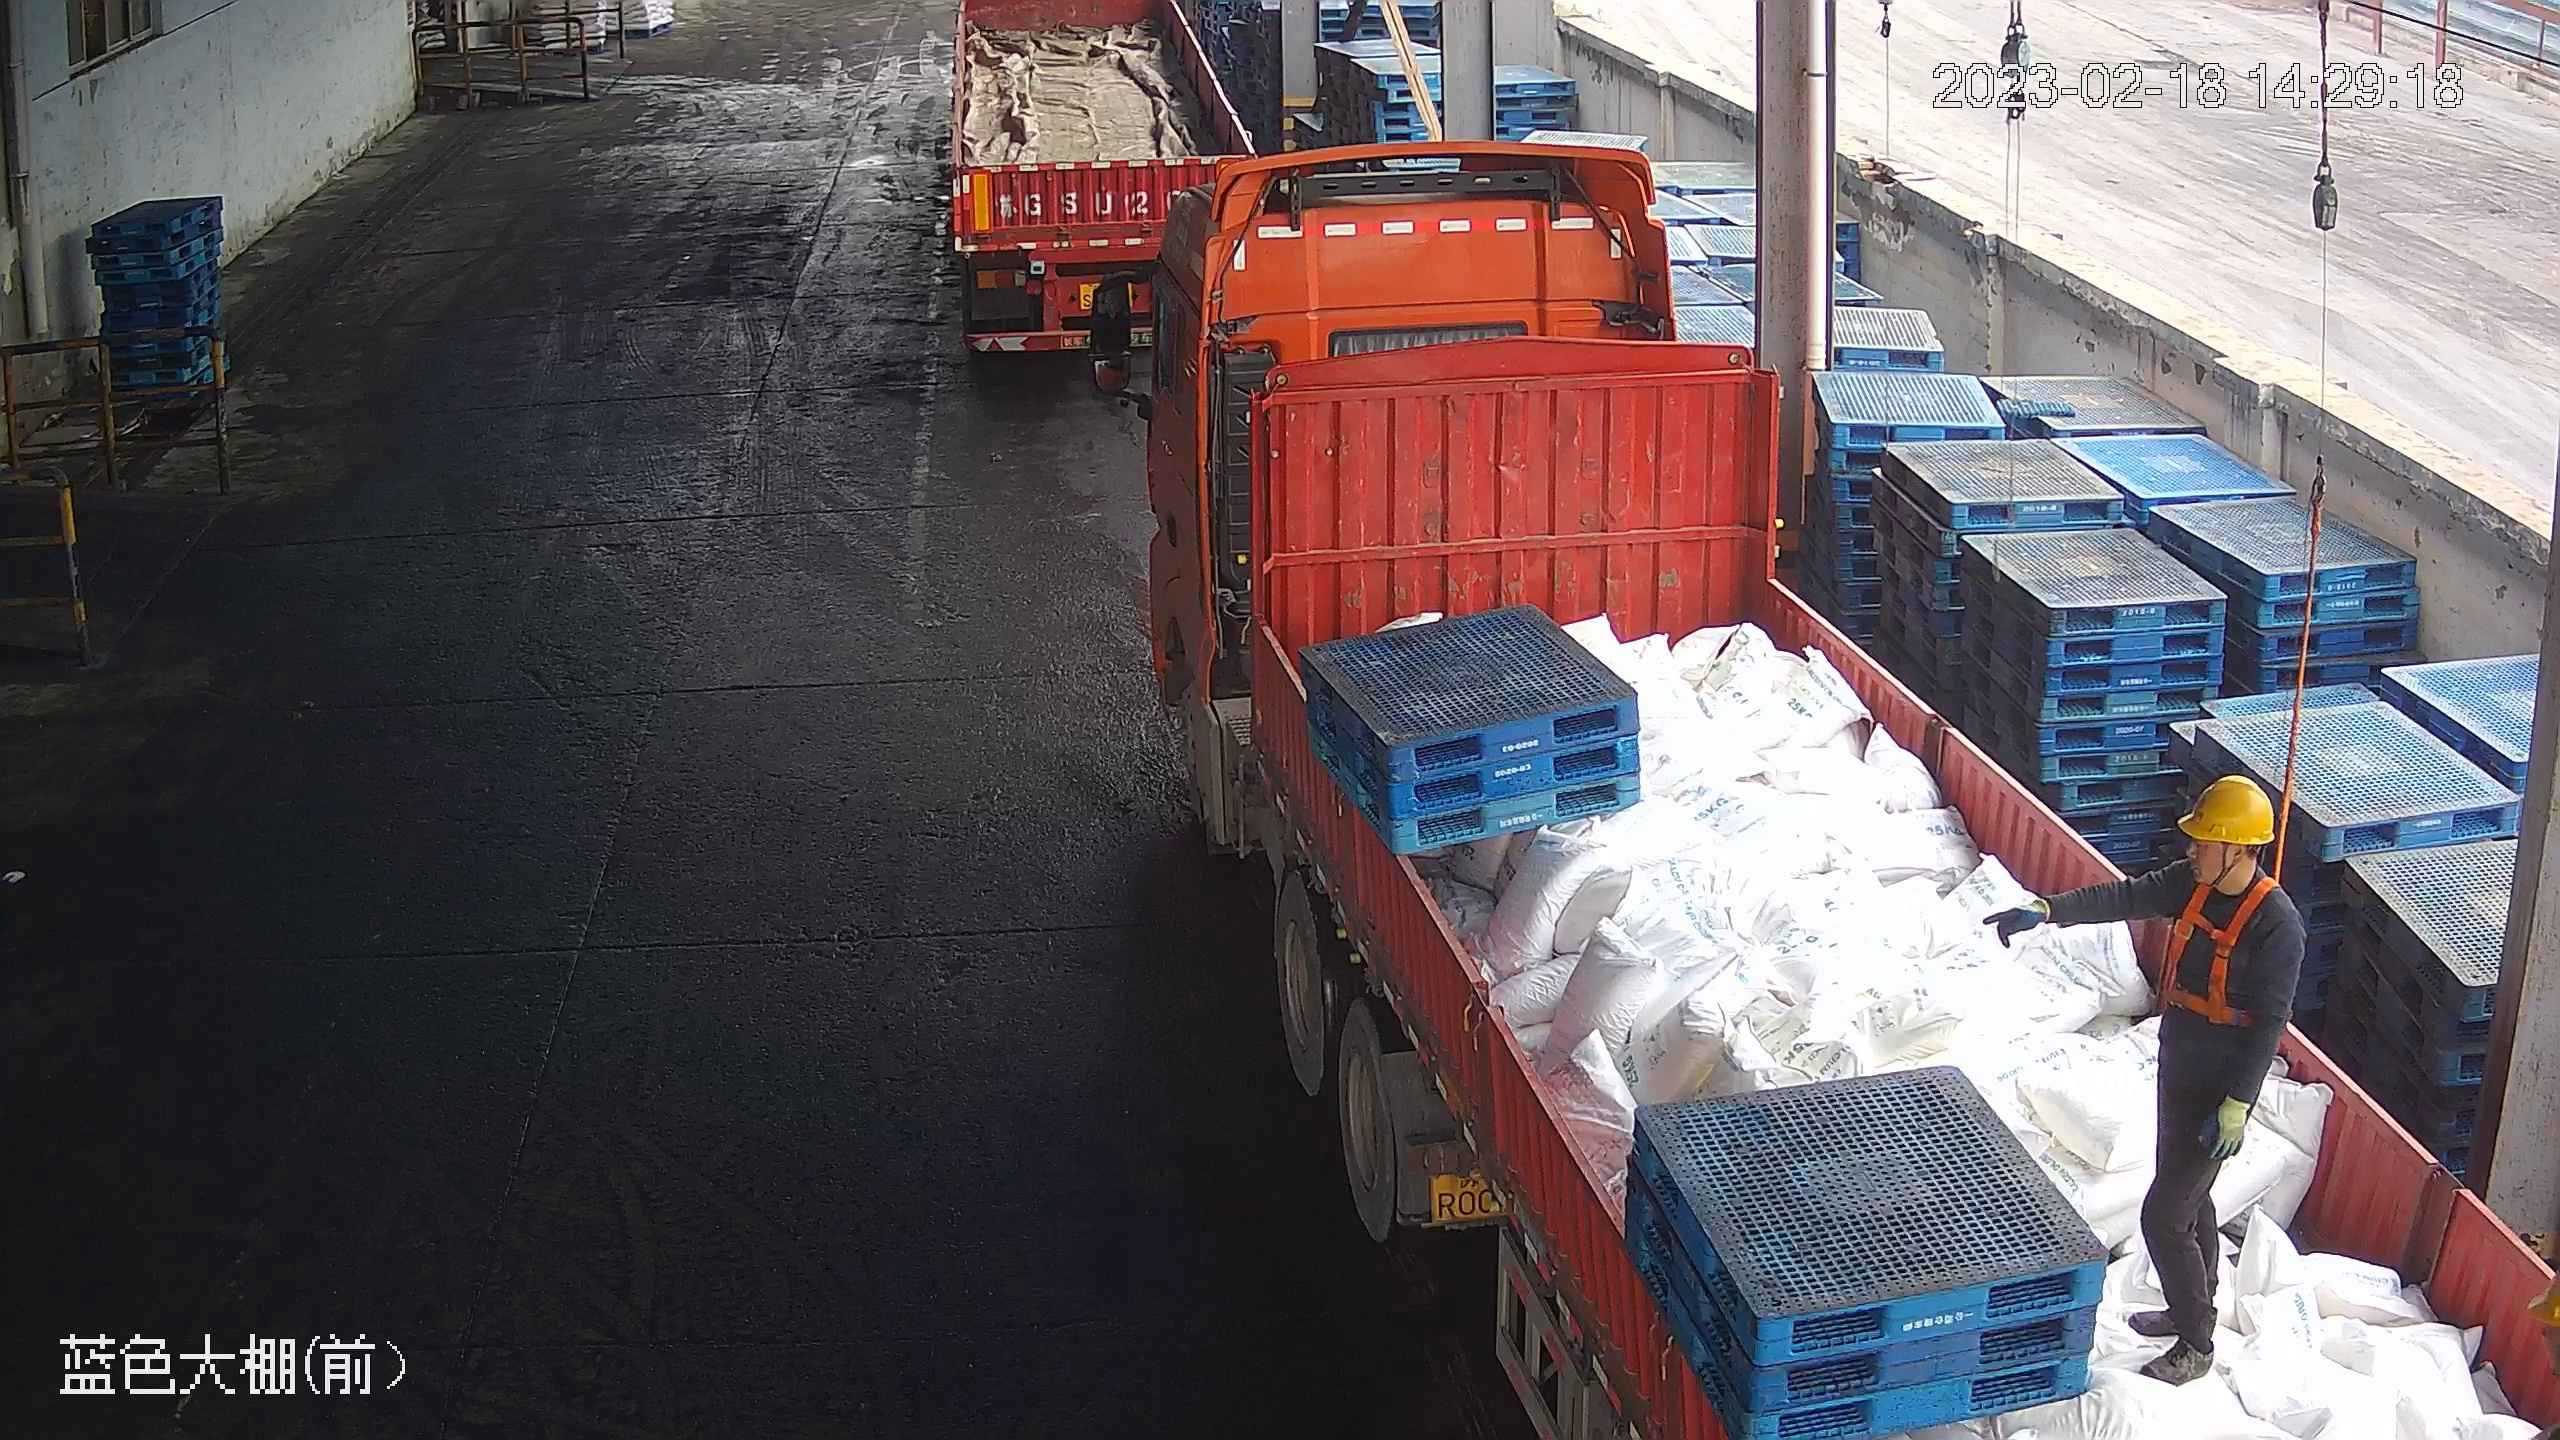belt: (1990, 768, 2309, 1384), (2137, 776, 2301, 970), (2148, 869, 2286, 1022)
head: (2135, 773, 2302, 963)
helmet: (2136, 773, 2301, 961), (2176, 774, 2276, 846), (2533, 1262, 2559, 1335)
people: (1988, 772, 2308, 1385)
truck: (1074, 157, 2549, 1440), (940, 1, 1258, 360)
